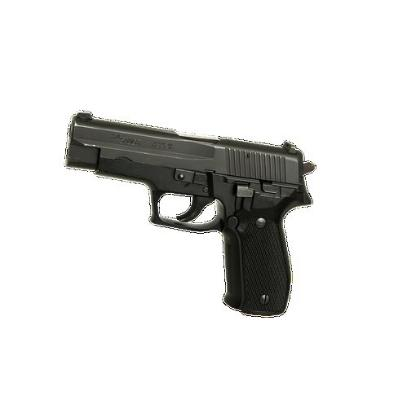gun: (61, 105, 301, 325)
